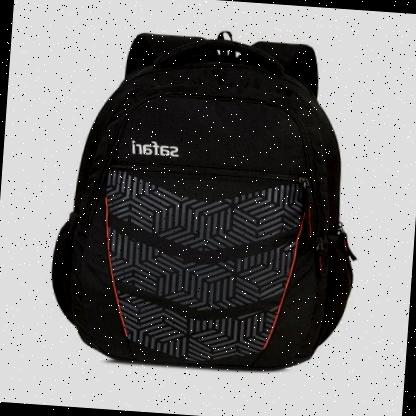bag: (34, 17, 374, 386)
